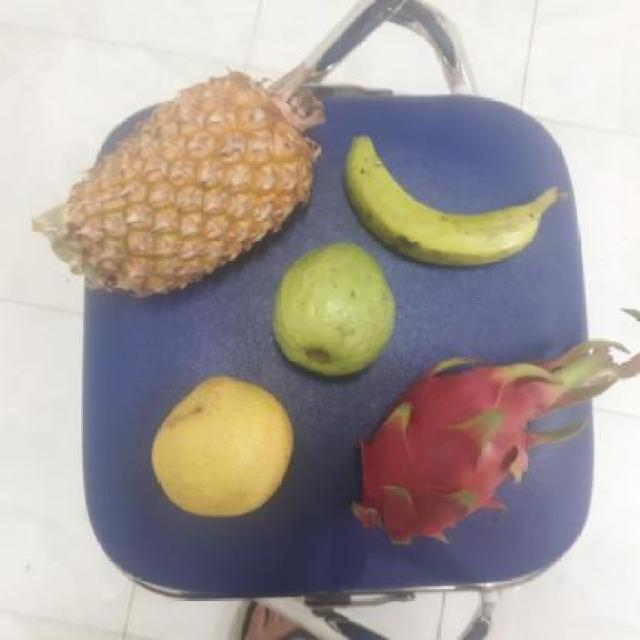banana: (332, 139, 548, 263)
dragon fruit: (328, 361, 566, 567), (348, 359, 510, 543)
guava: (268, 242, 395, 376)
pear: (140, 372, 298, 517)
pineapple: (53, 85, 310, 293)
